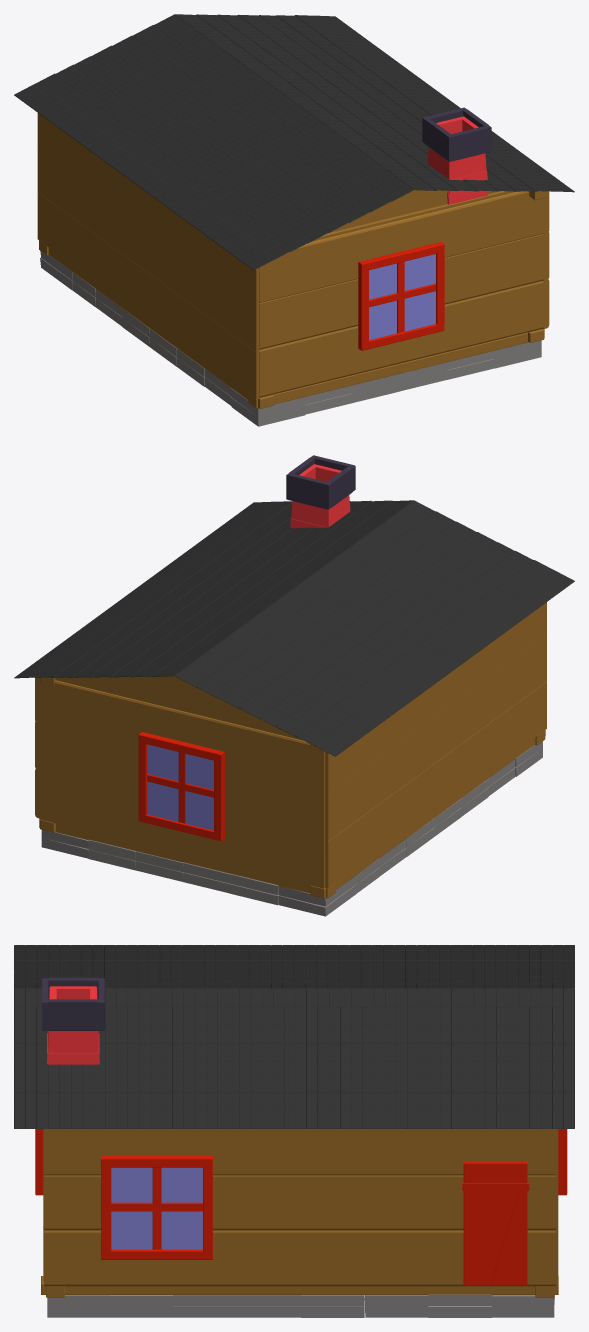
File: SM_SmallHouse.fbx
The picture shows the model from 3 angles, top to bottom: view 1: azimuth 30°, elevation 25°; view 2: azimuth 150°, elevation 25°; view 3: azimuth 270°, elevation 25°; orthographic projection. The views are drawn at different scales.
Parts seen in each view (by area): view 1: SM_SmallHouse; view 2: SM_SmallHouse; view 3: SM_SmallHouse.
Boxes of the visible parts, x1,y1,x2,y2 form: SM_SmallHouse: (14, 14, 574, 426); SM_SmallHouse: (14, 455, 574, 916); SM_SmallHouse: (14, 945, 574, 1317).
Size of what is drawn, in the model's own units: 680 by 877 by 494.
